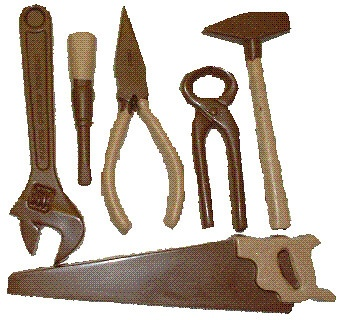hammer: (201, 10, 317, 230)
